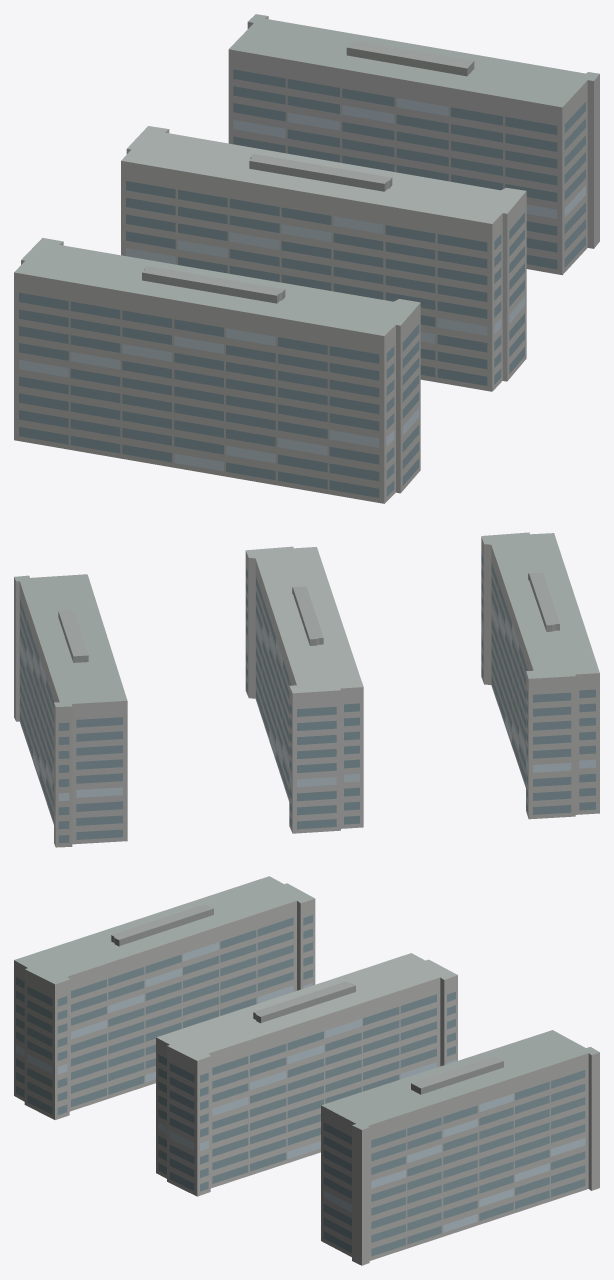
The model's file is apt-a15088802.glb.
The picture shows the model from 3 angles, top to bottom: view 1: azimuth 30°, elevation 25°; view 2: azimuth 150°, elevation 25°; view 3: azimuth 270°, elevation 25°; orthographic projection. The views are drawn at different scales.
Parts seen in each view (by area): view 1: apt-a15088802; view 2: apt-a15088802; view 3: apt-a15088802.
Boxes of the visible parts, x1,y1,x2,y2 form: apt-a15088802: (14,14,599,503); apt-a15088802: (14,532,599,847); apt-a15088802: (14,876,599,1265).
Size of the model in its own units: 115 by 30 by 112.
